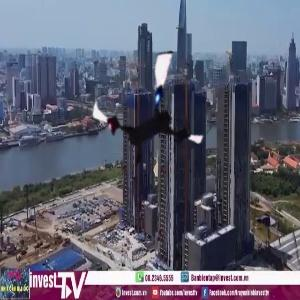drone: (89, 49, 217, 177)
